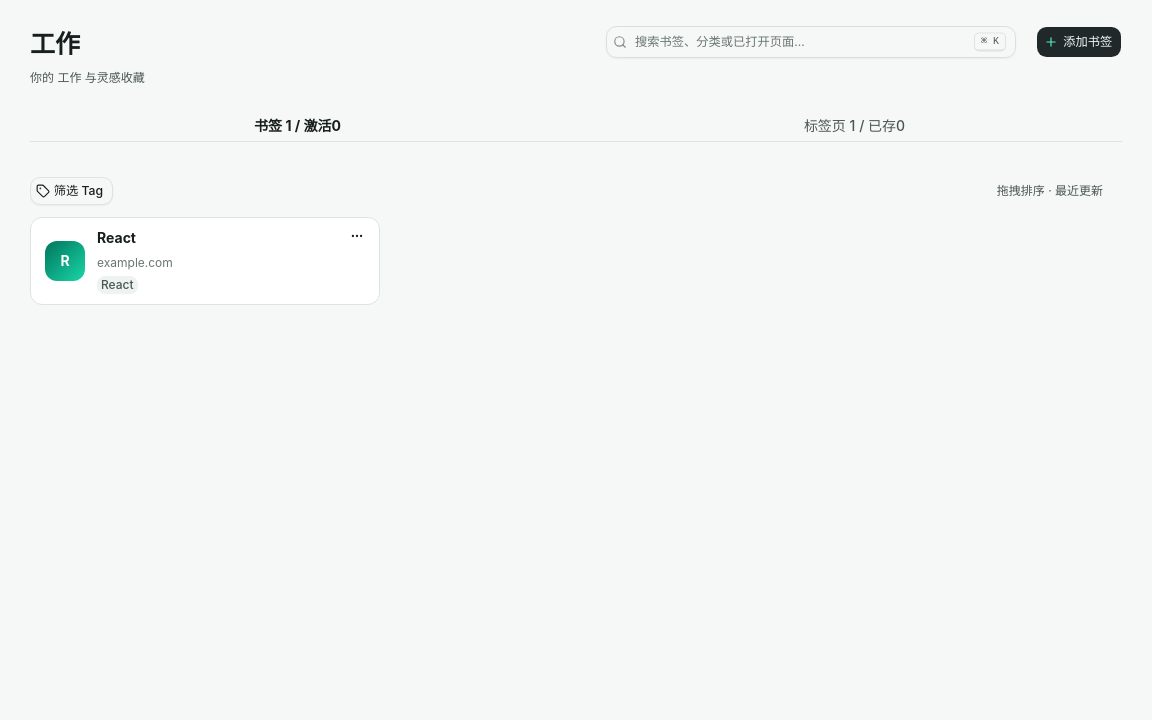
Test: Content Tag 筛选器（#52） › Tab 隔离 › 切到标签页视图时筛选状态不影响标签页列表
The width and height of the screenshot is (1152, 720).
Note: 在书签视图选中 React 筛选
Click the button "筛选 Tag": (71, 191) [30,177,113,205]
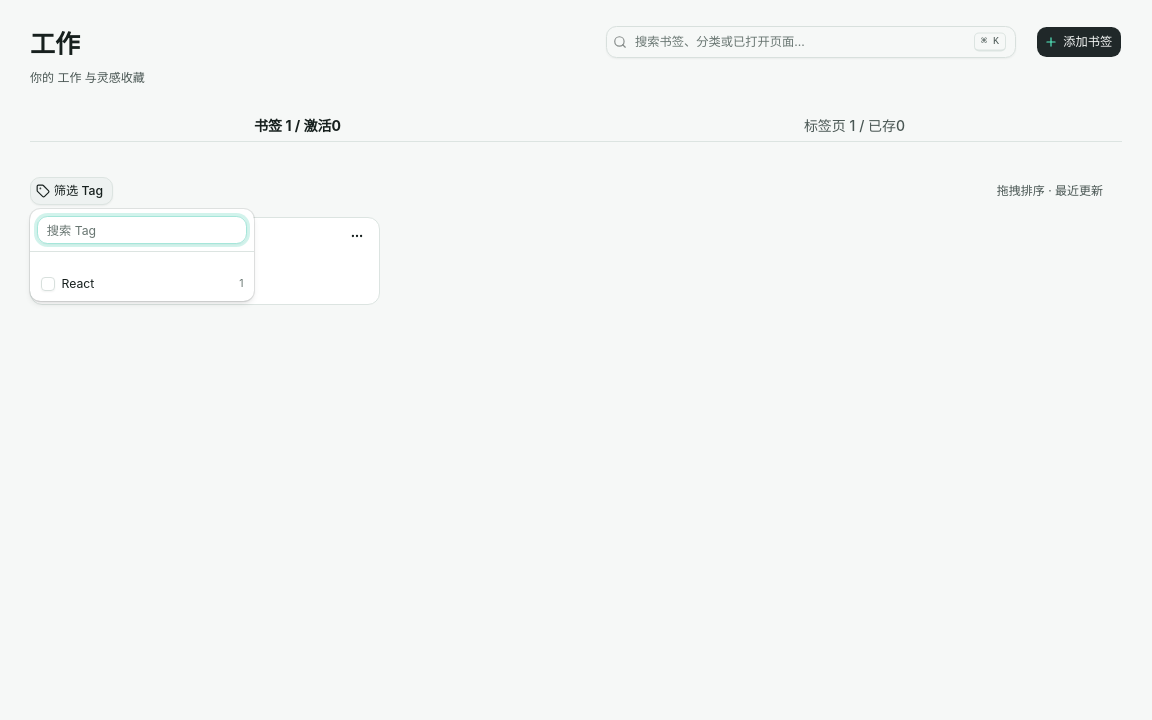
Click the checkbox named "React": (48, 284) [40,276,54,290]
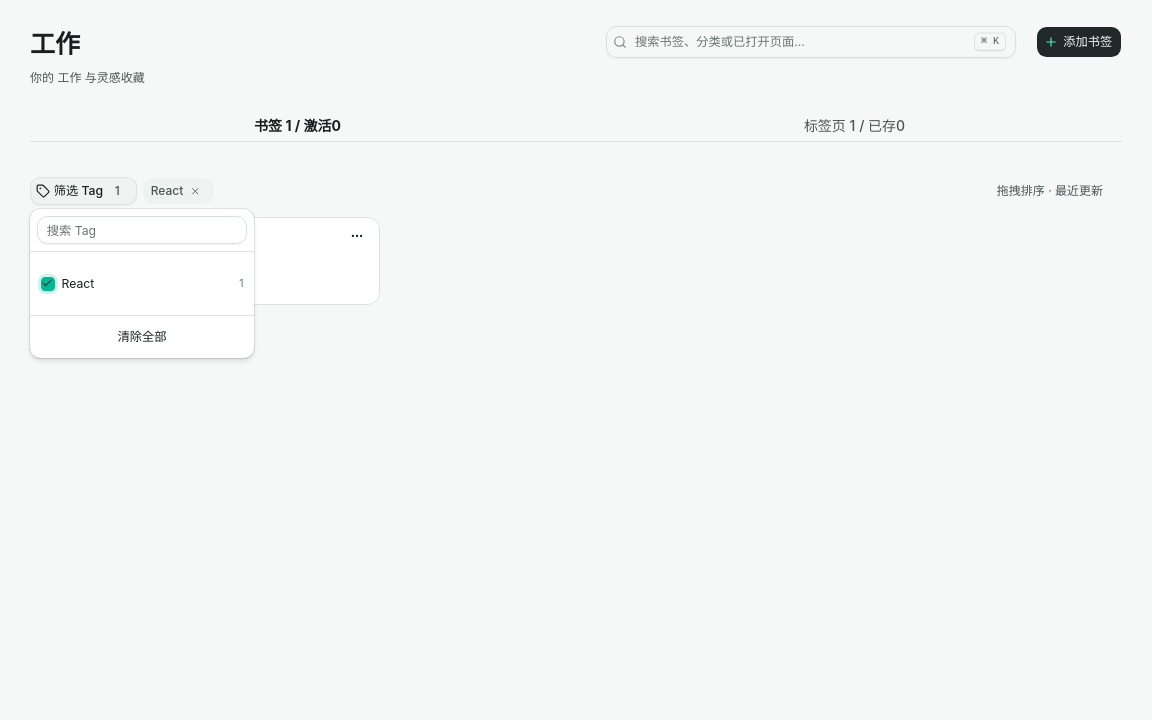
Note:  切到标签页视图
Click the tab "标签页 1 / 已存0": (854, 126) [587,102,1122,150]
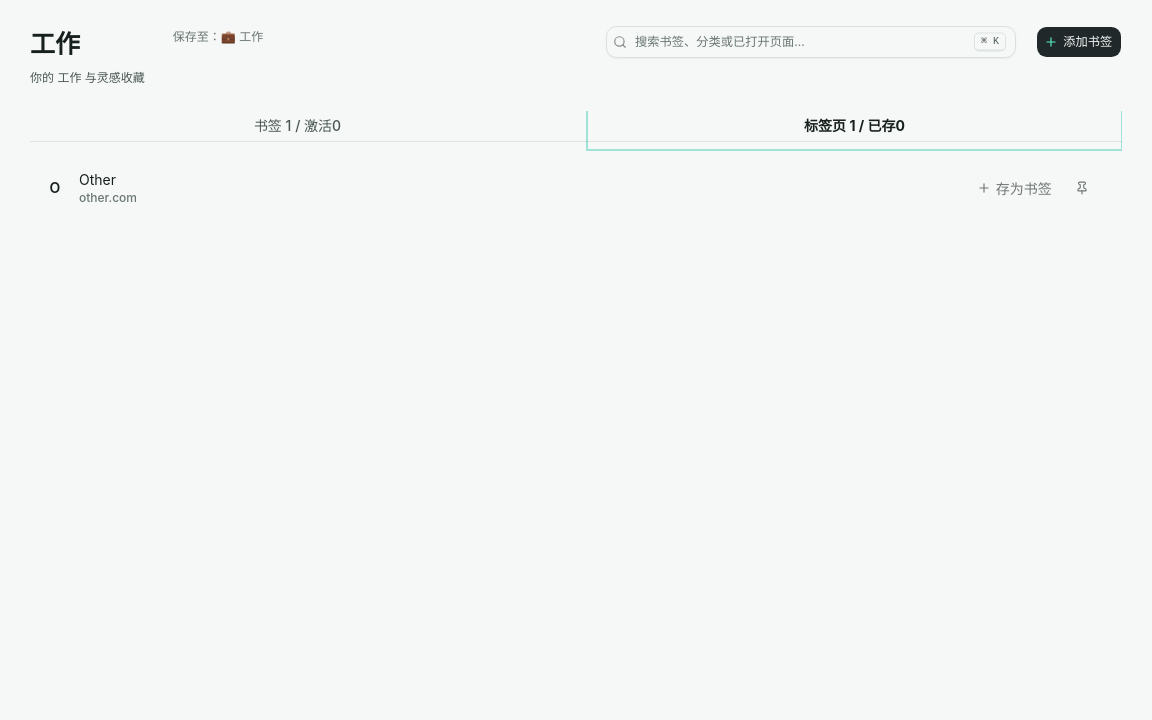
Expected: the text "Other" is shown, [79,171,116,188]
